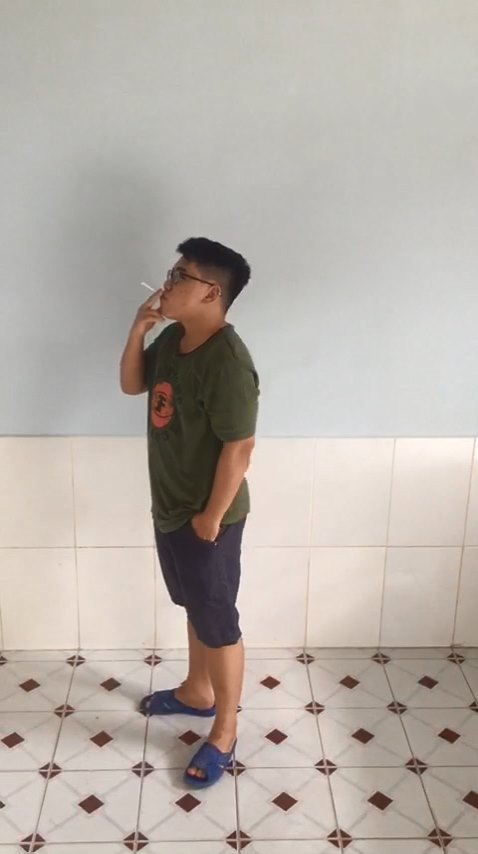cigarette: (142, 277, 160, 296)
person: (103, 223, 289, 815)
